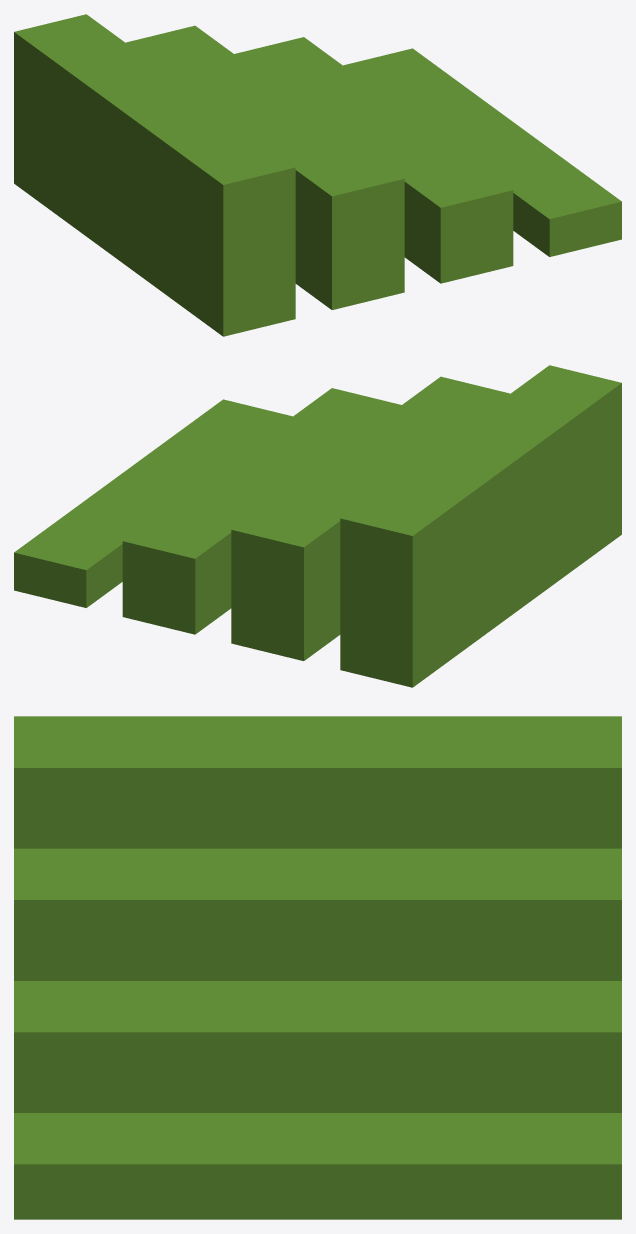
The model's file is woman.obj.
3 renders of one model, top to bottom at view 1: azimuth 30°, elevation 25°; view 2: azimuth 150°, elevation 25°; view 3: azimuth 270°, elevation 25°, orthographic. The views are drawn at different scales.
Size of the model in its own units: 11 by 4 by 10.
1 material, 1 textured.
